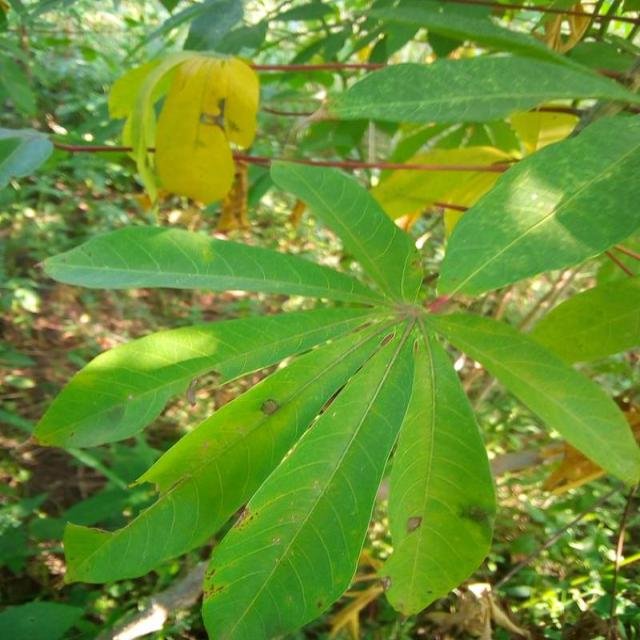cassava leaf: (32, 141, 638, 637), (436, 109, 638, 298), (153, 52, 258, 205)
